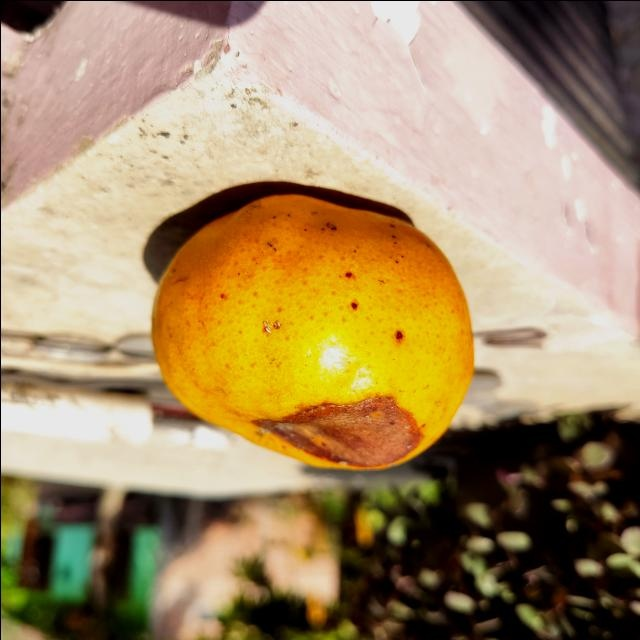agrume: (150, 192, 474, 472)
